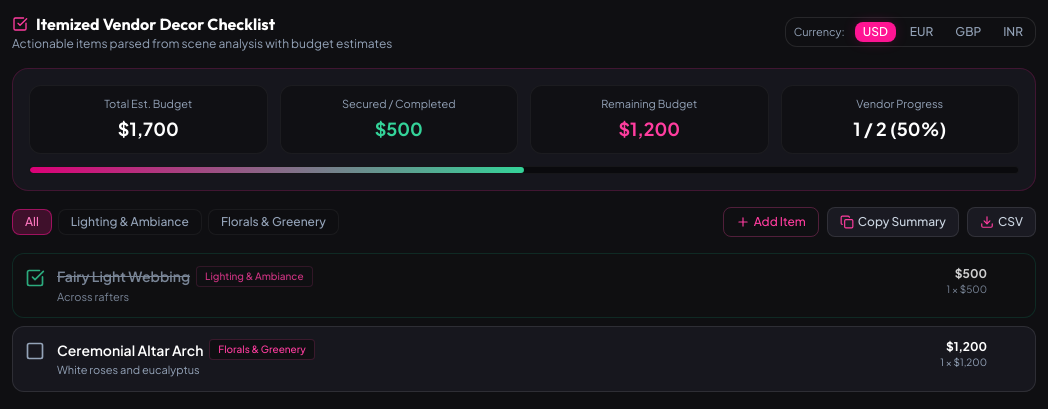
Test: DecorChecklist Component › switches currency when currency pill is clicked
The image size is (1048, 409).
Click the button "EUR" at (922, 32), box [902,22,941,42]
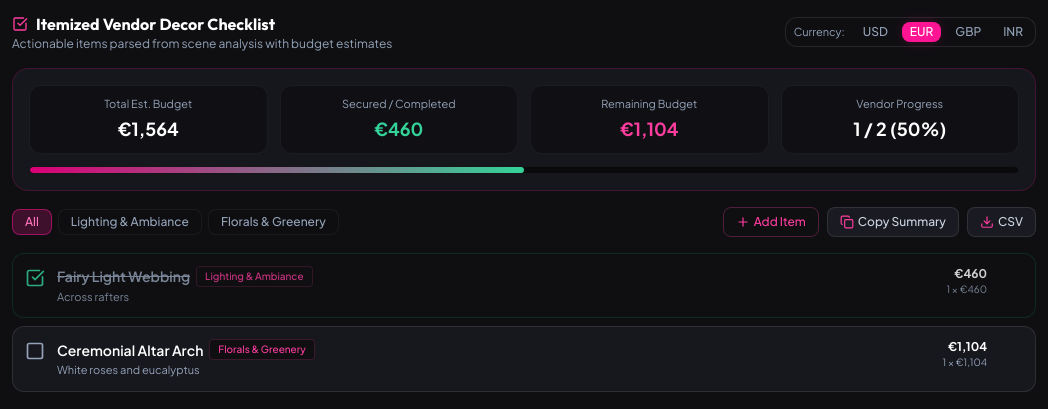
Now the text "€1,564" is shown, box [118,116,179,140]
